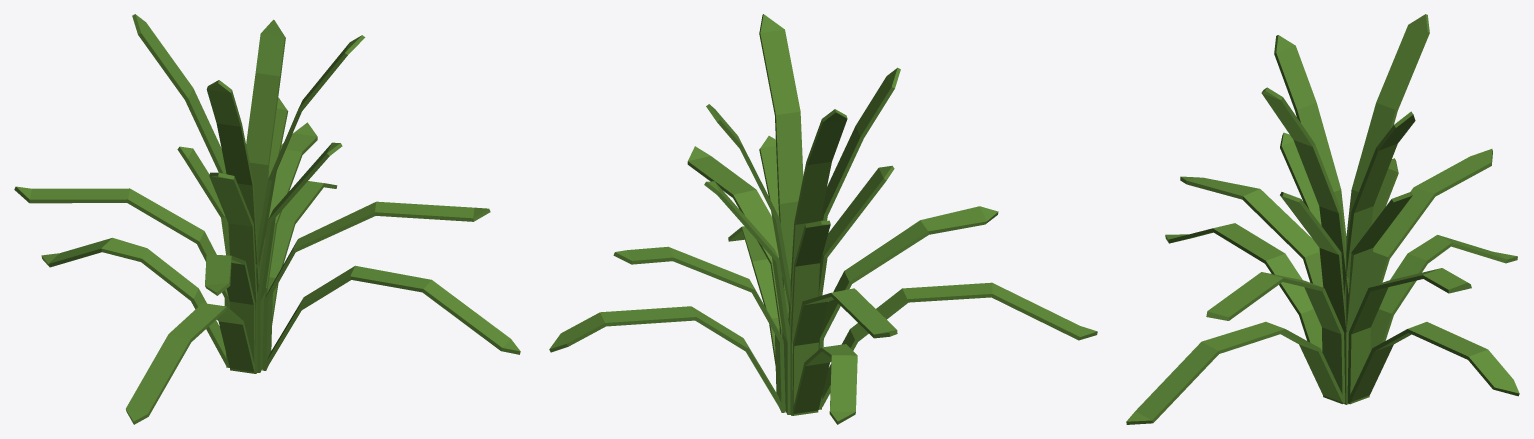
The model's file is plant-b.glb.
3 renders of one model, left to right at view 1: azimuth 30°, elevation 25°; view 2: azimuth 150°, elevation 25°; view 3: azimuth 270°, elevation 25°, orthographic.
Parts seen in each view (by area): view 1: Plant_3; view 2: Plant_3; view 3: Plant_3.
Part boxes in pixels (left/top/right/bottom): Plant_3: left=14, top=14, right=520, bottom=424; Plant_3: left=549, top=14, right=1097, bottom=424; Plant_3: left=1126, top=14, right=1519, bottom=424.
Size of the model in its own units: 0.6928 by 0.6 by 0.6182.
